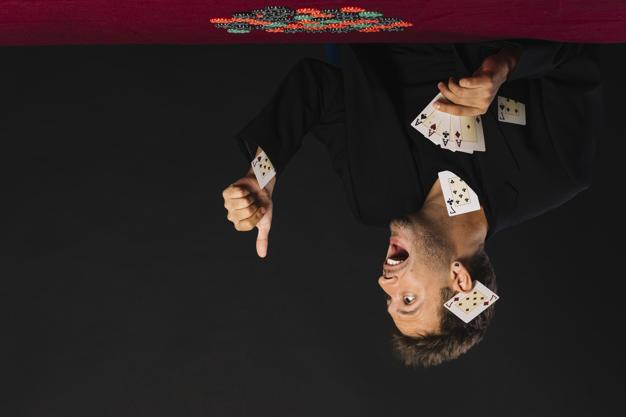thumbsdown: (221, 185, 269, 258)
